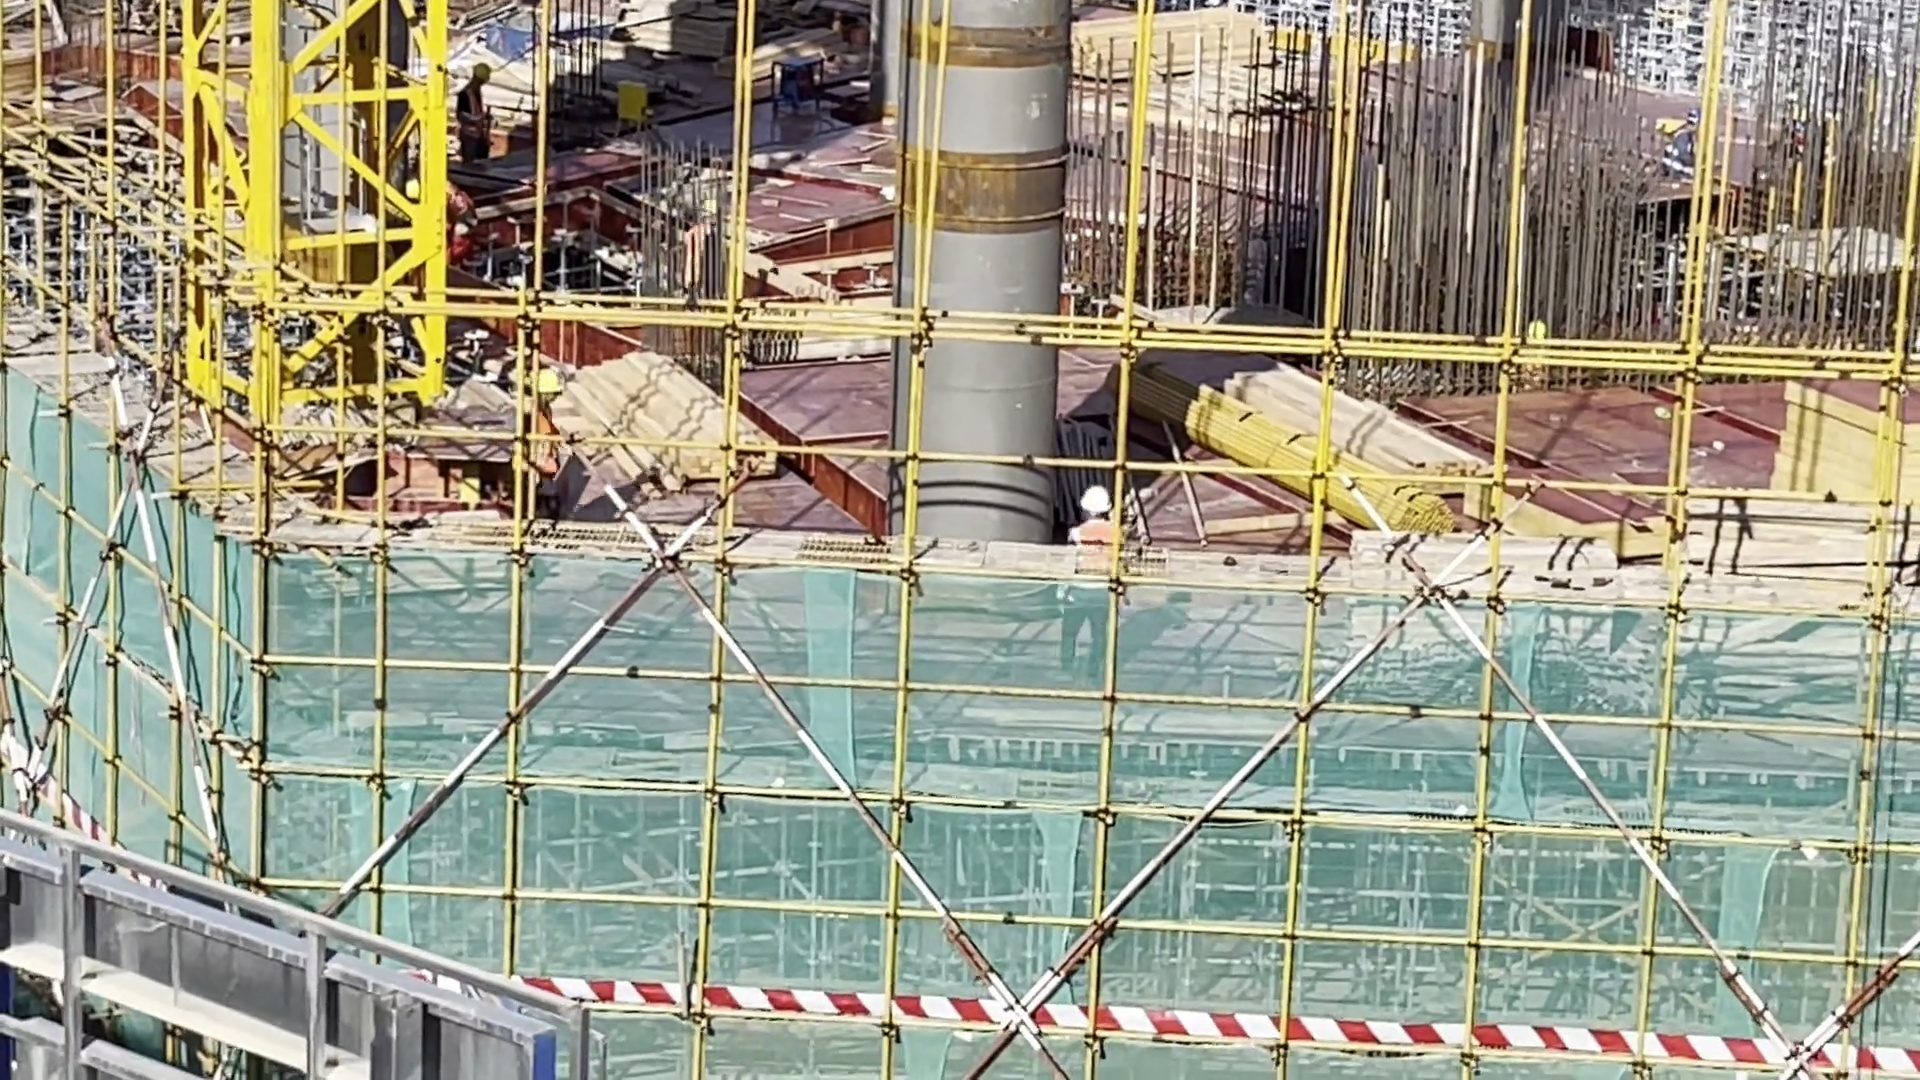board: (1777, 374, 1915, 504)
helmet: (1081, 487, 1111, 511)
person: (1050, 487, 1115, 680), (452, 65, 497, 165)
wood: (1180, 356, 1487, 533), (569, 345, 769, 484), (1074, 12, 1250, 76)
